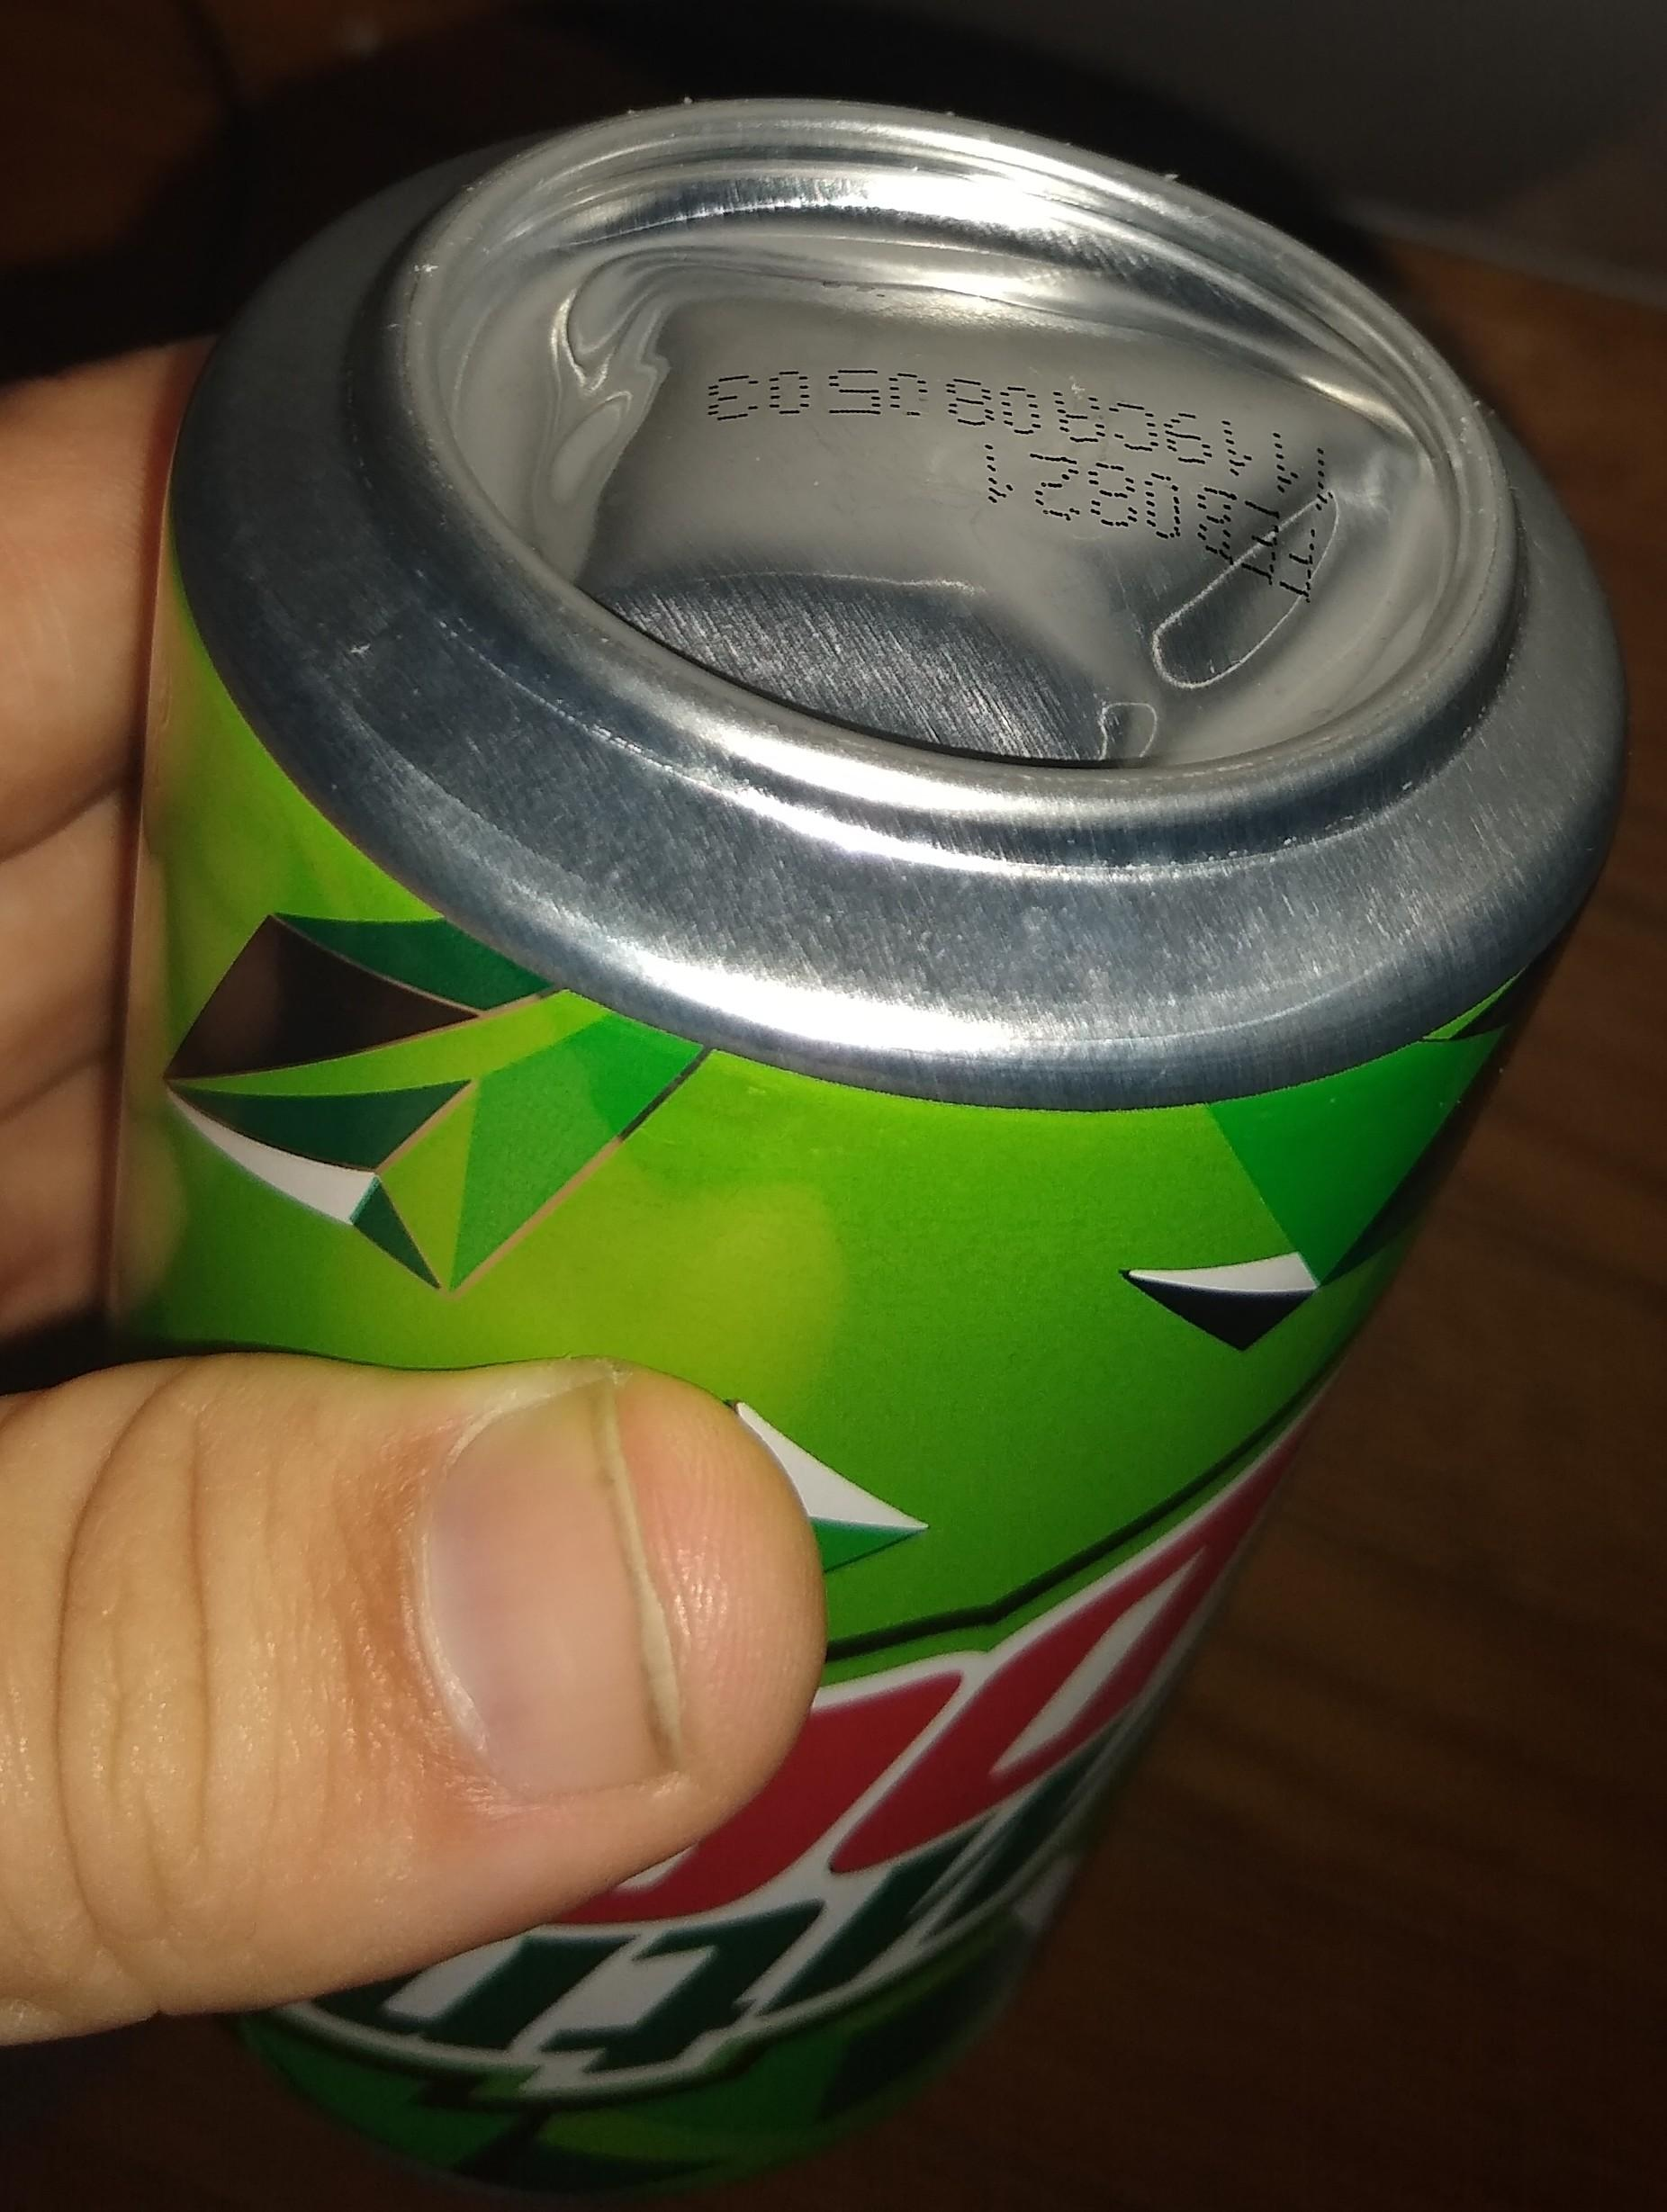metal: (152, 63, 1630, 2133)
